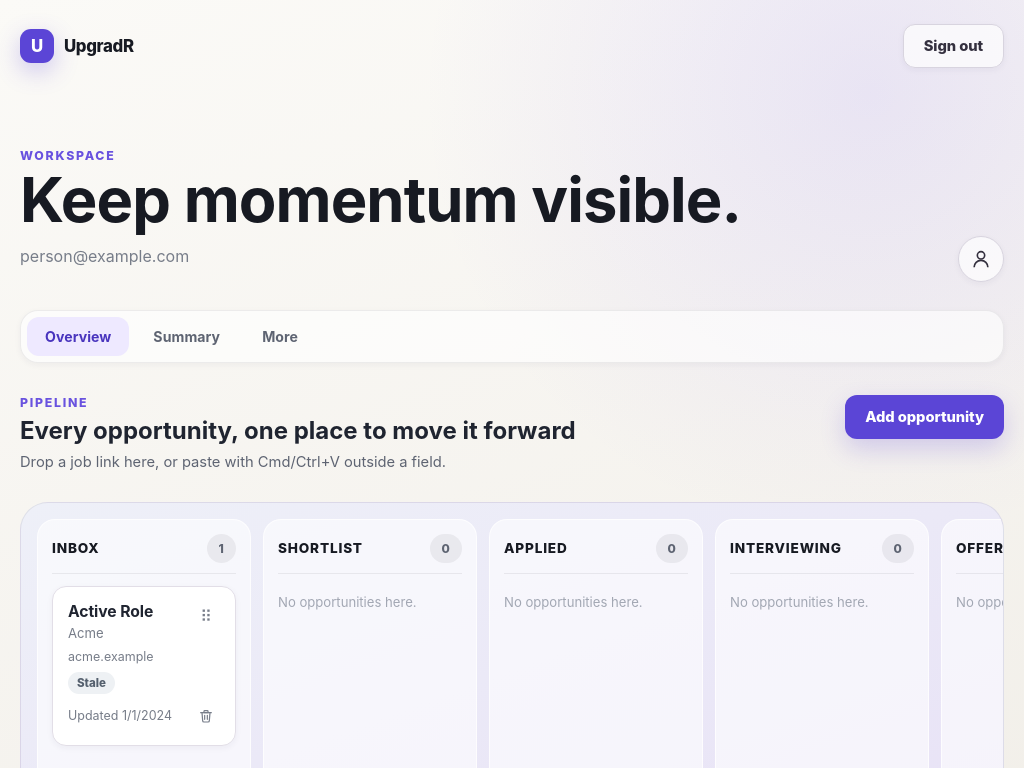
Test: App › excludes closed opportunities from the active board and lists them under More
Check: the text "Active Role" is shown, box [68,602,153,621]
Check: the text "Closed Role" is not shown
Click the button "More".
click(280, 336)  # box [244,317,316,356]
(page scrolled)
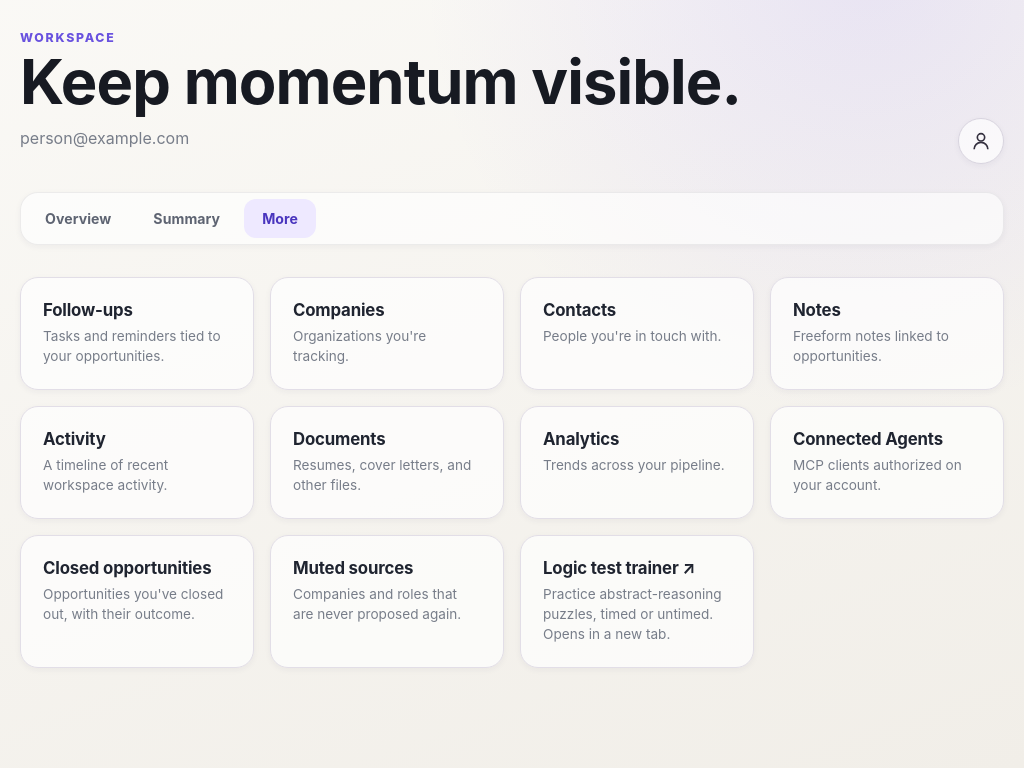
Click the button "Closed opportunities".
click(137, 601)  # box [20,534,254,668]
(page scrolled)
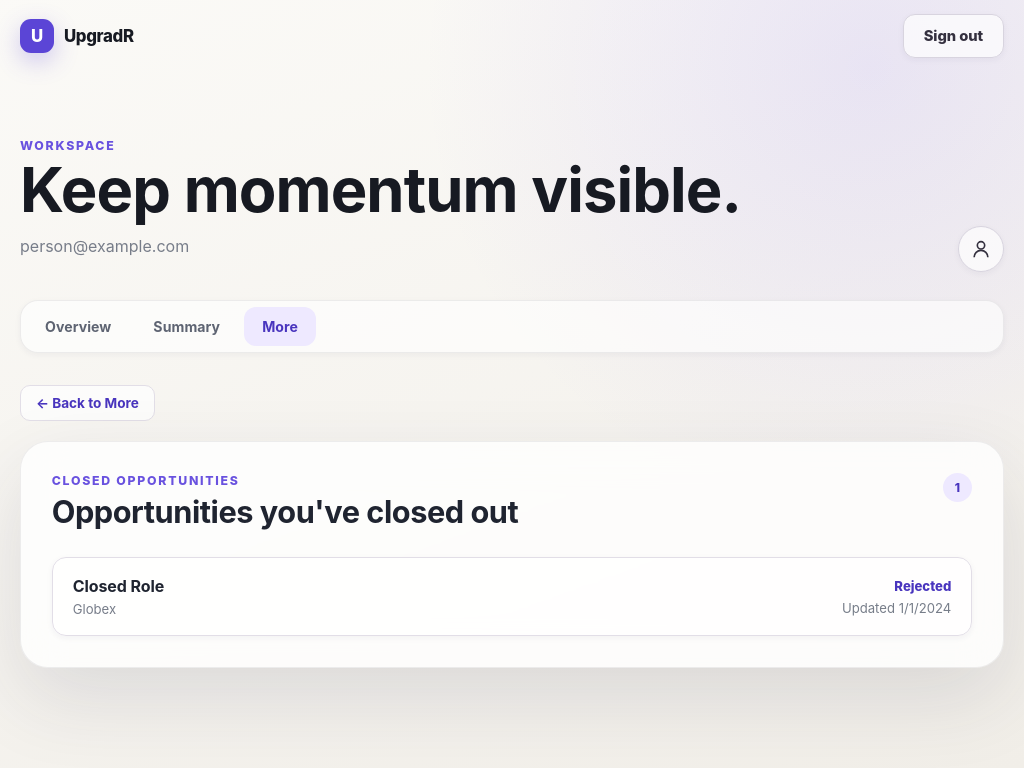
Check: the button "Active Role" is not shown
Check: the text "Closed Role" is shown, box [73,576,164,596]
Click the button "← Back to More".
click(87, 403)  # box [20,385,155,421]
(page scrolled)
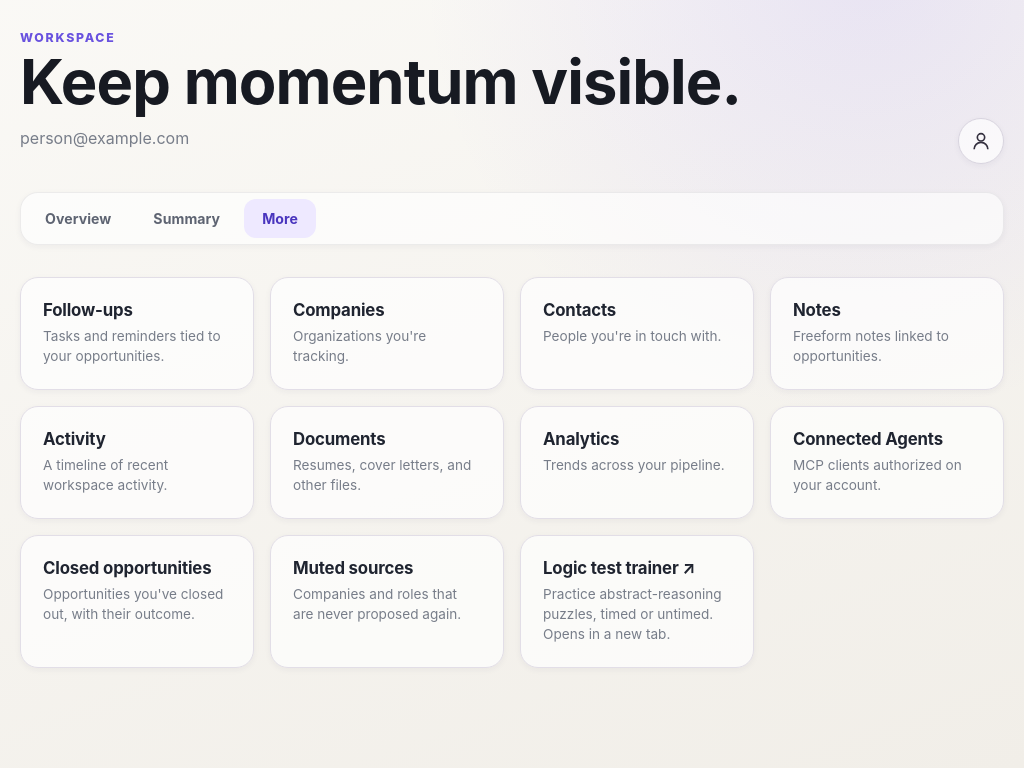
Check: the button "Follow-ups Tasks and reminders tied to your opportunities." is shown, box [20,277,254,390]
